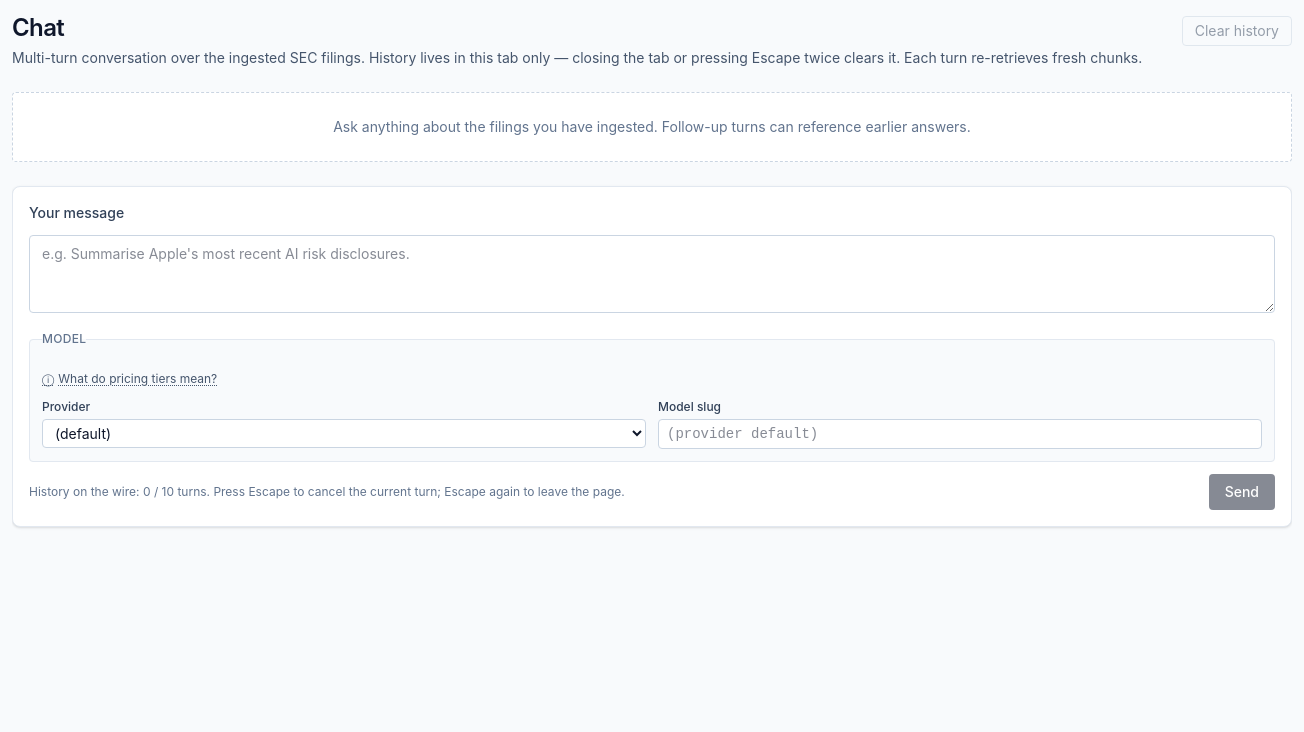
ChatPage — session cost summary › shows '—' for unknown-cost turns and flags them in the summary
The image size is (1304, 732).
In the text box labelled "Your message": (652, 274) [29,235,1275,313], type "first"
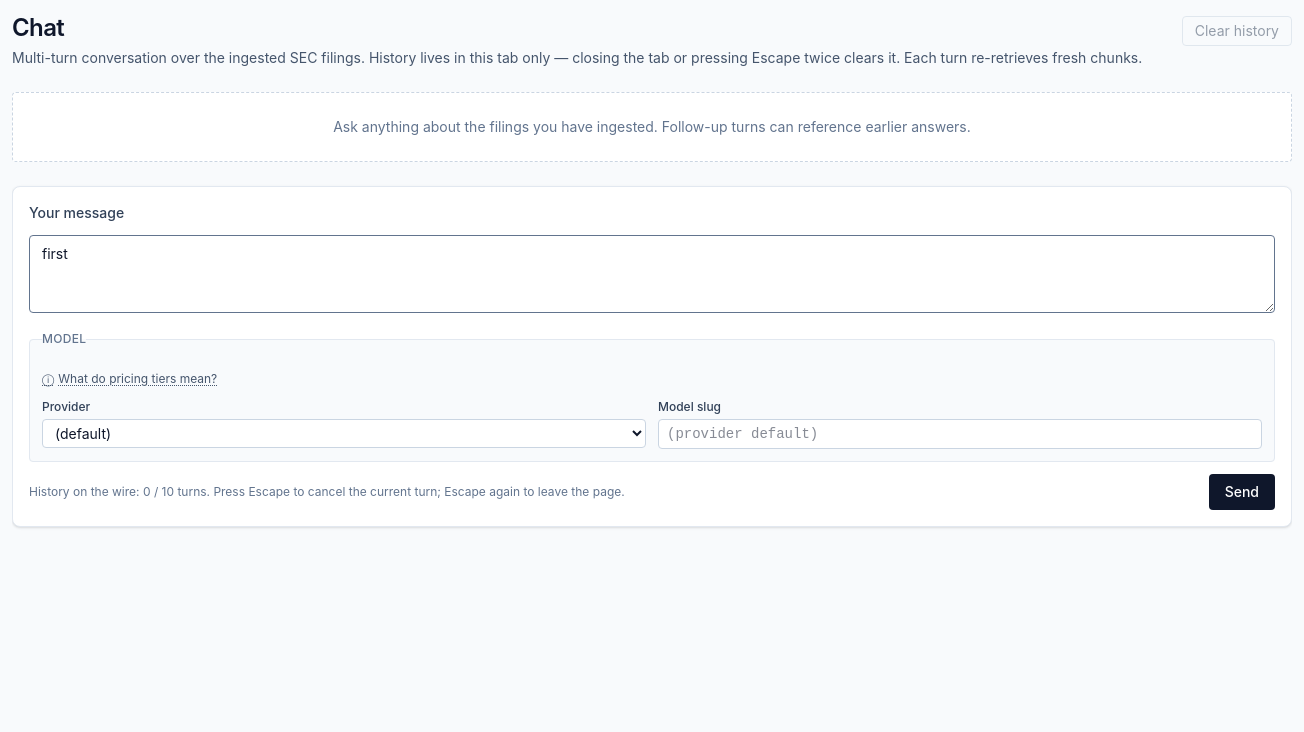
Click the button "Send": click(1242, 492) [1209,474,1275,510]
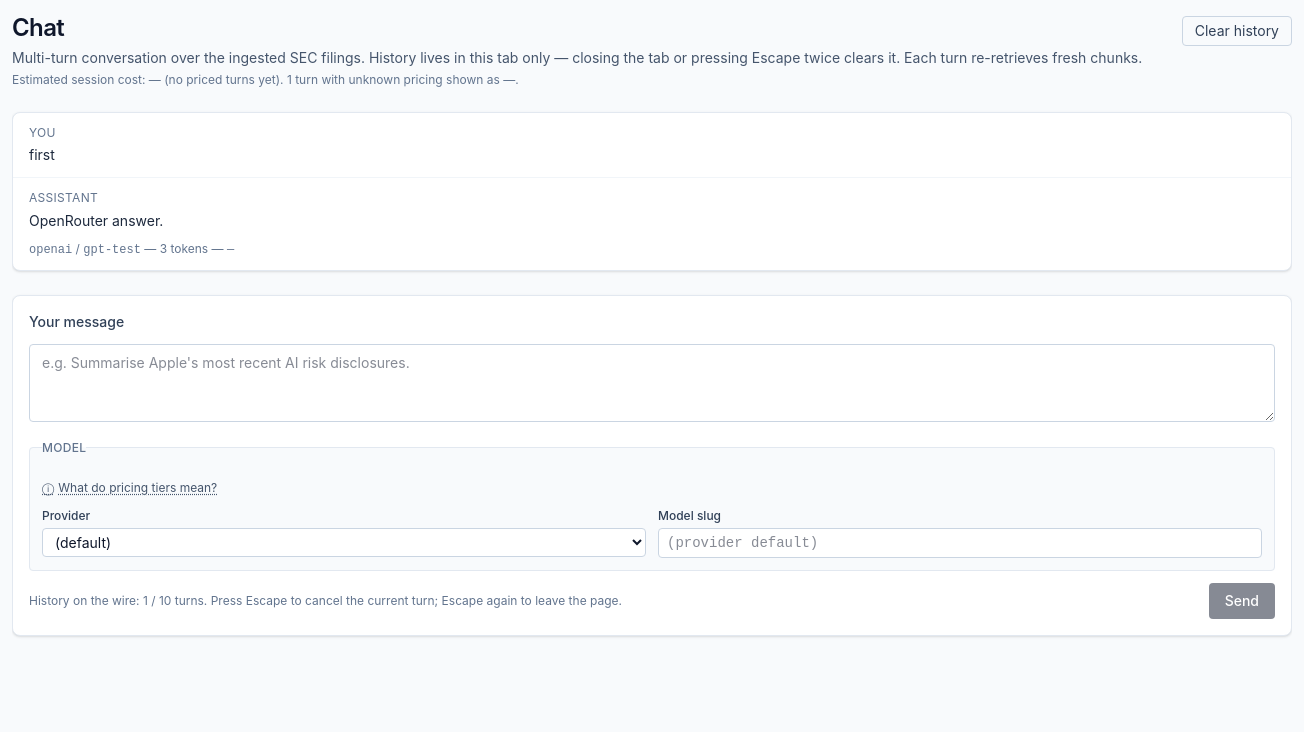
Expected: the text "OpenRouter answer." is shown, [29,212,163,229]
Expected: the text labelled "Estimated session cost" shows "unknown pricing", [318,72,519,87]
